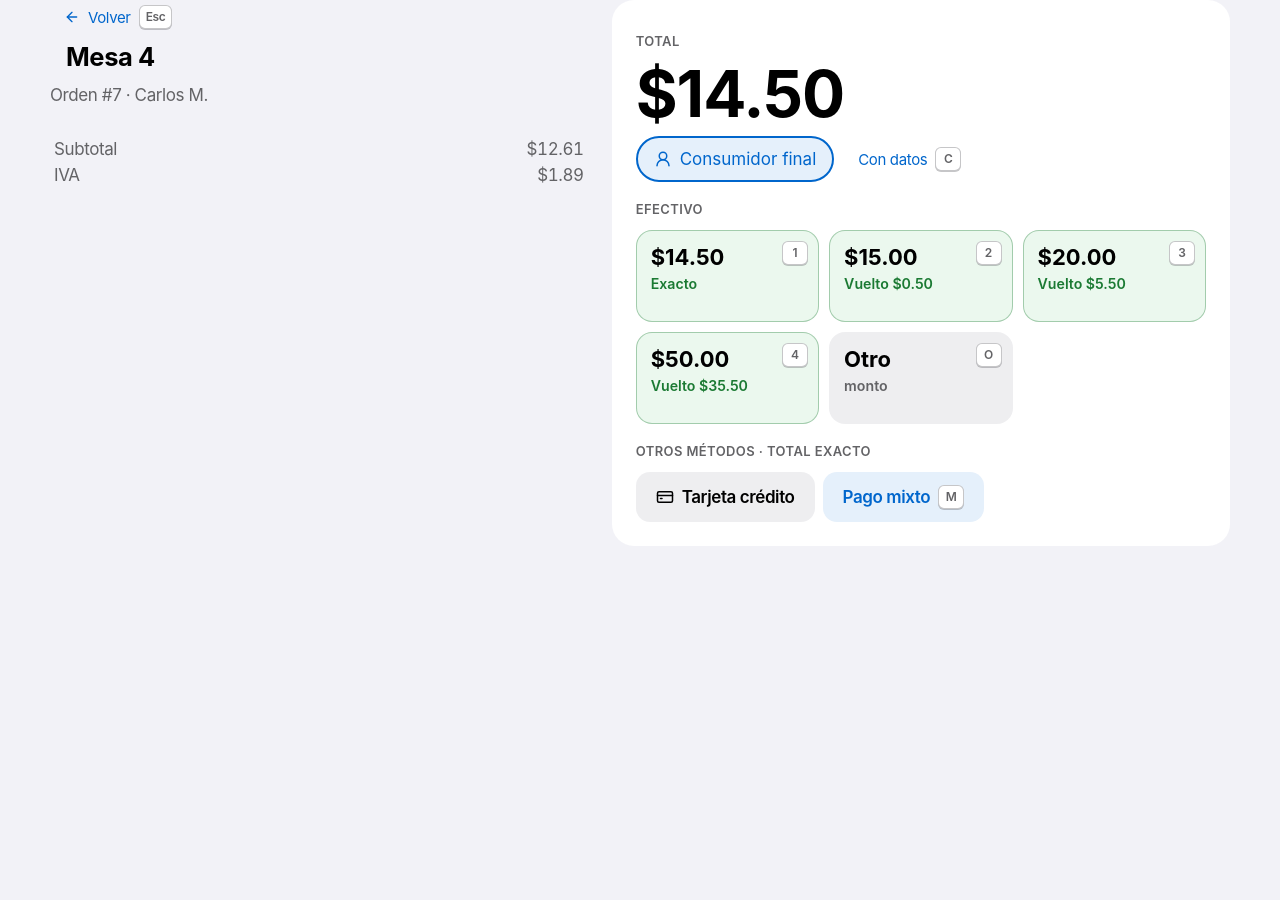
Test case: pago mixto › la tarjeta abre el detalle con el total listo para anotar el voucher
Click the button with test id "metodo-Tarjeta crédito": click(725, 497) [636,472,814,522]
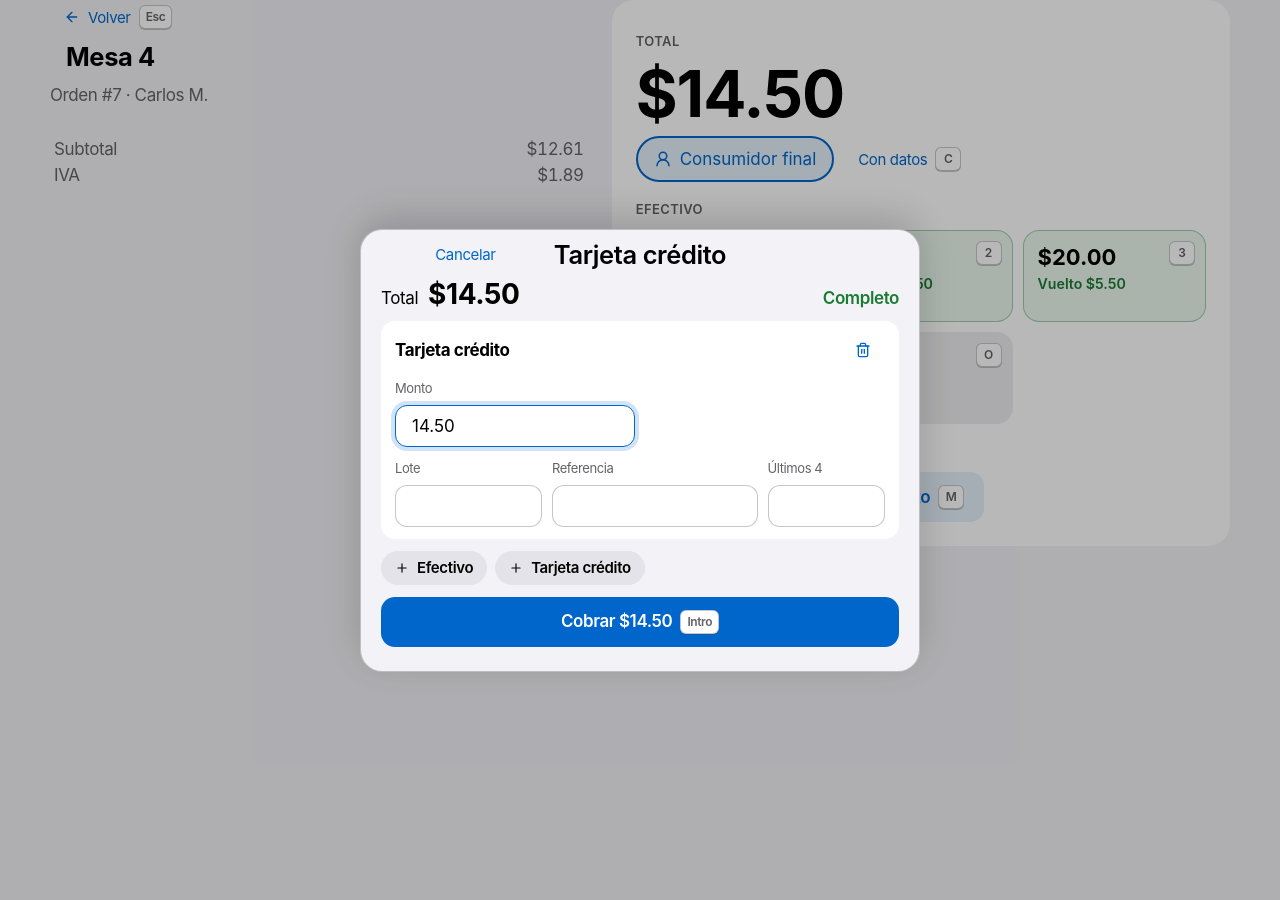
Check: the dialog named "Detalle del pago" is shown, box [360,228,920,672]
Check: the field named "Monto de Tarjeta crédito" holds "14.50", box [395,404,635,446]
Check: the button with test id "cobrar-mixto" is enabled, box [381,596,899,646]
